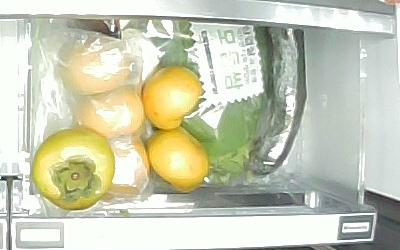persimmon: (32, 128, 116, 210), (142, 65, 202, 131), (147, 129, 208, 192)
persimmon_vinyl: (56, 41, 134, 94), (75, 92, 143, 137), (103, 138, 147, 200)
